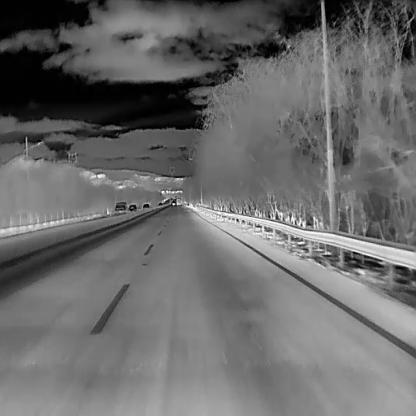car: (114, 201, 127, 214), (127, 203, 137, 212), (142, 202, 150, 209), (176, 198, 181, 207), (172, 202, 176, 206)
